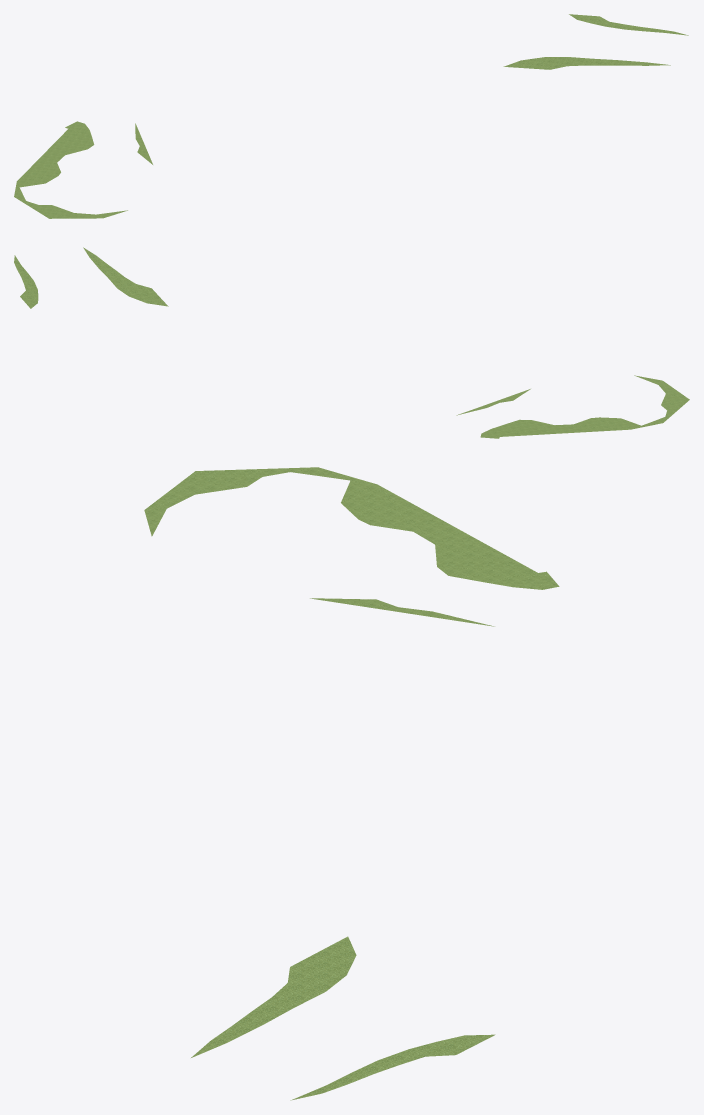
File: kd_connection_town-ground_surface_3_6.glb
The picture shows the model from 3 angles, top to bottom: view 1: azimuth 30°, elevation 25°; view 2: azimuth 150°, elevation 25°; view 3: azimuth 270°, elevation 25°; orthographic projection. The views are drawn at different scales.
Parts seen in each view (by area): view 1: kd_connection_town-ground_surface_3_6; view 2: kd_connection_town-ground_surface_3_6; view 3: kd_connection_town-ground_surface_3_6.
Boxes of the visible parts, x1,y1,x2,y2 form: kd_connection_town-ground_surface_3_6: [14, 14, 688, 218]; kd_connection_town-ground_surface_3_6: [14, 247, 689, 438]; kd_connection_town-ground_surface_3_6: [144, 467, 559, 1100].
Size of the model in its own units: 15.15 by 0.07 by 4.16.
1 material, 1 textured.
